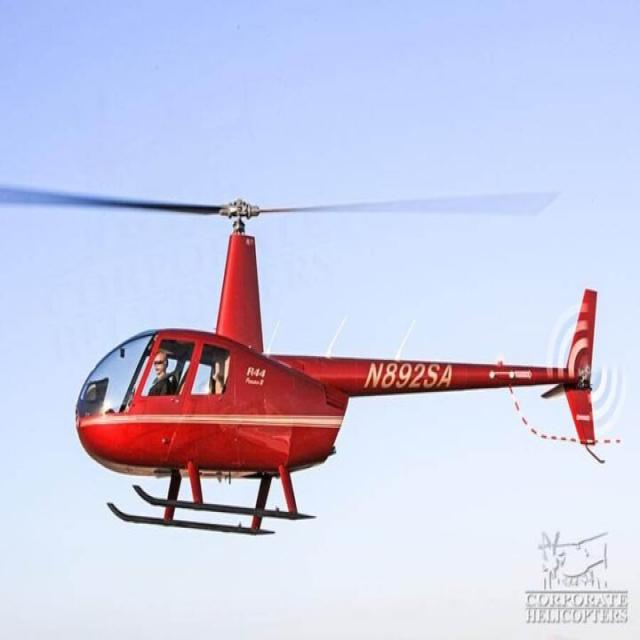CIV_HELO: (71, 188, 603, 539)
